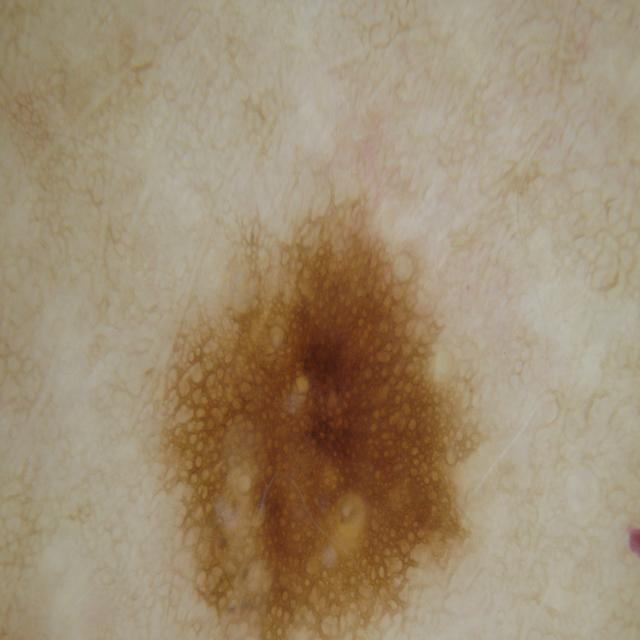Melanoma: (105, 172, 525, 640)
